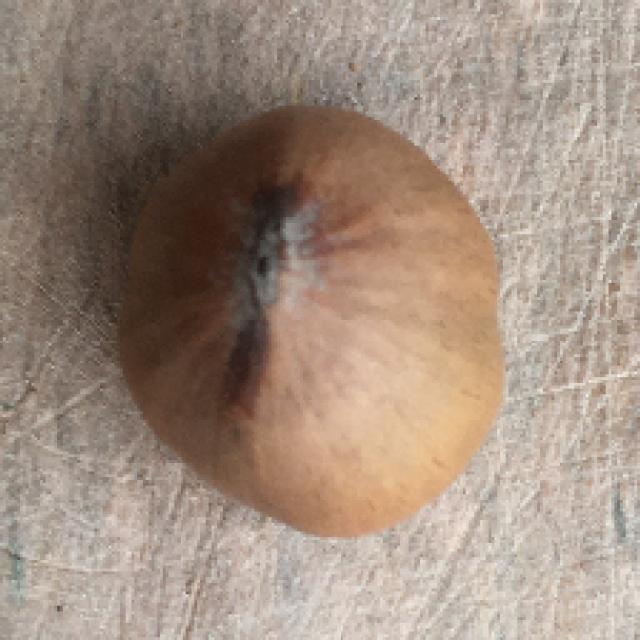damagedHazelnut: (114, 98, 515, 537)
